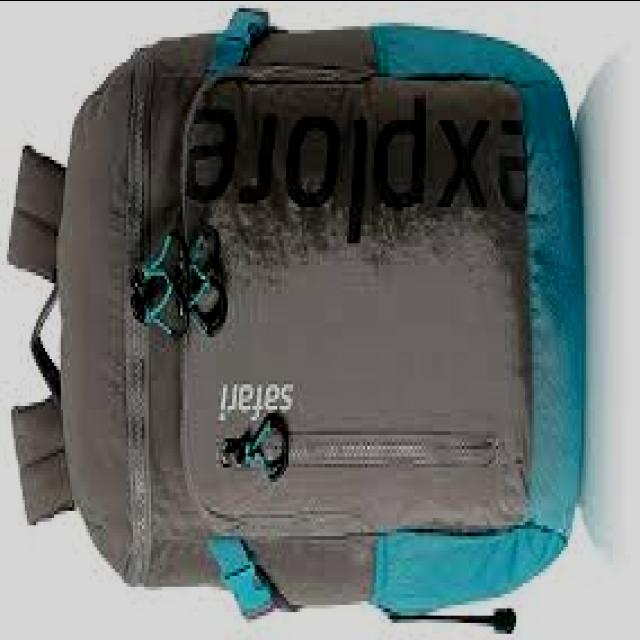backpack: (8, 8, 585, 634)
